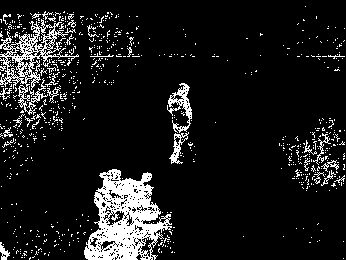person: (166, 80, 197, 169)
